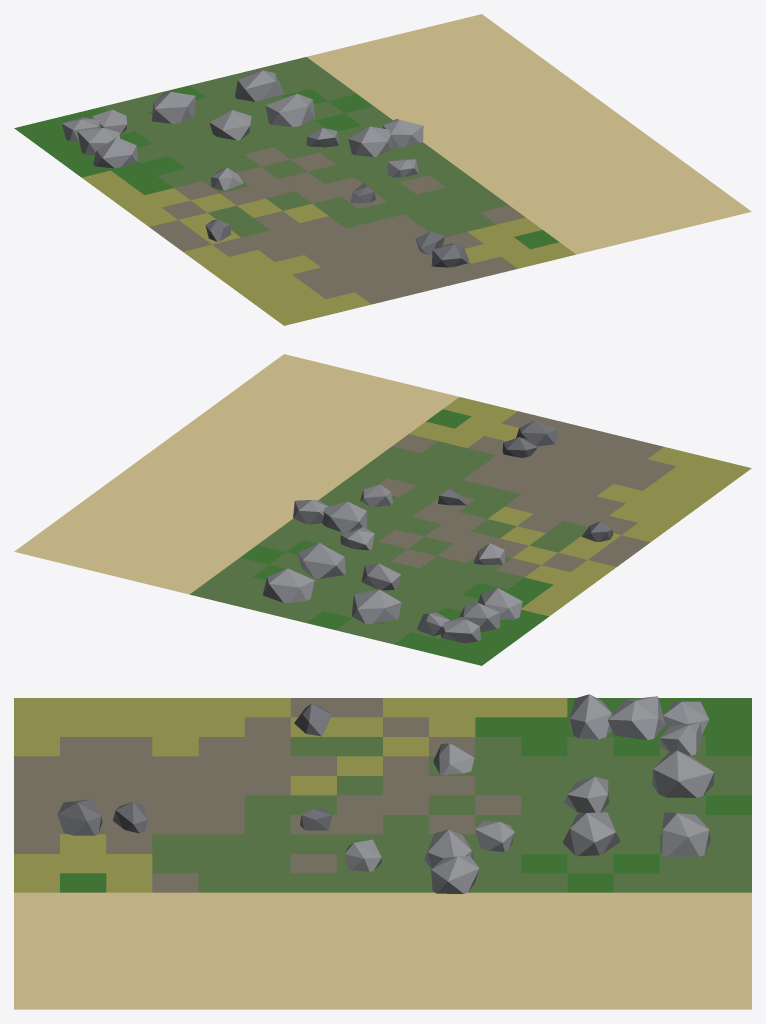
The model's file is chunk_11_16.glb.
3 renders of one model, top to bottom at view 1: azimuth 30°, elevation 25°; view 2: azimuth 150°, elevation 25°; view 3: azimuth 270°, elevation 25°, orthographic. The views are drawn at different scales.
Parts seen in each view (by area): view 1: chunk_11_16; view 2: chunk_11_16; view 3: chunk_11_16.
Part boxes in pixels (bbox=[...]): chunk_11_16: bbox=[14, 14, 751, 325]; chunk_11_16: bbox=[14, 354, 751, 665]; chunk_11_16: bbox=[14, 694, 751, 1009].
Size of the model in its own units: 16 by 1.28 by 16.
